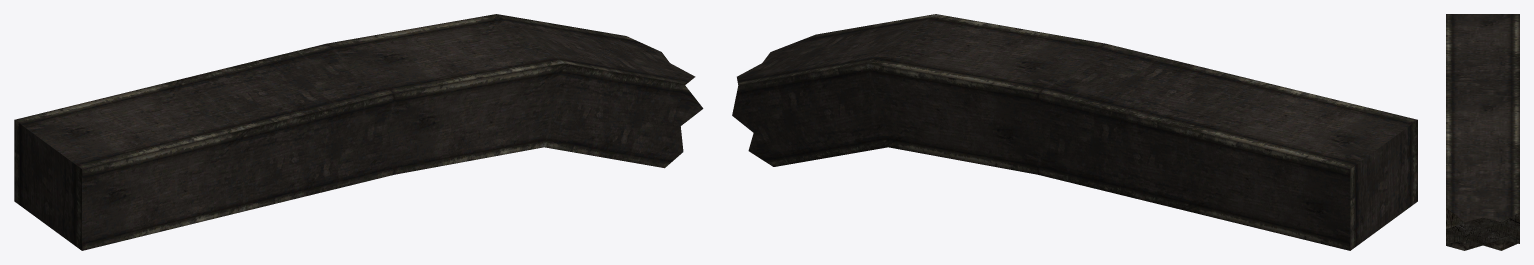
The model's file is welder_wood_middle_broken.dae.
The picture shows the model from 3 angles, left to right: view 1: azimuth 30°, elevation 25°; view 2: azimuth 150°, elevation 25°; view 3: azimuth 270°, elevation 25°; orthographic projection. The views are drawn at different scales.
Parts seen in each view (by area): view 1: polySurface2; view 2: polySurface2; view 3: polySurface2, polySurface3.
Part boxes in pixels (x1,y1,x2,y2): polySurface2: [14, 14, 703, 250]; polySurface2: [732, 14, 1417, 250]; polySurface2: [1446, 14, 1519, 221]; polySurface3: [1446, 208, 1519, 250].
Size of the model in its own units: 4.04 by 0.89 by 0.75.
